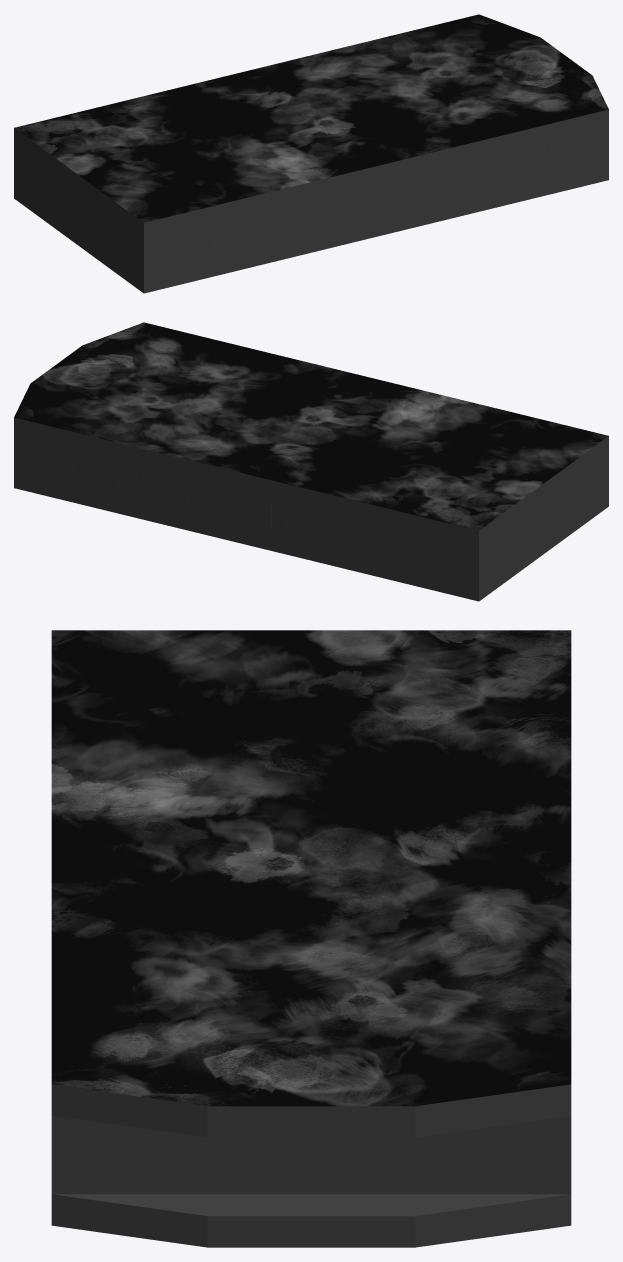
File: chassis.dae
The picture shows the model from 3 angles, top to bottom: view 1: azimuth 30°, elevation 25°; view 2: azimuth 150°, elevation 25°; view 3: azimuth 270°, elevation 25°; orthographic projection. The views are drawn at different scales.
Visible parts, largest first — view 1: chassis; view 2: chassis; view 3: chassis.
Part boxes in pixels (<box>): chassis: <box>14,14,608,293</box>; chassis: <box>14,322,608,601</box>; chassis: <box>51,630,571,1247</box>.
Size of the model in its own units: 1.65 by 0.762 by 0.2433.
1 material, 1 textured.
